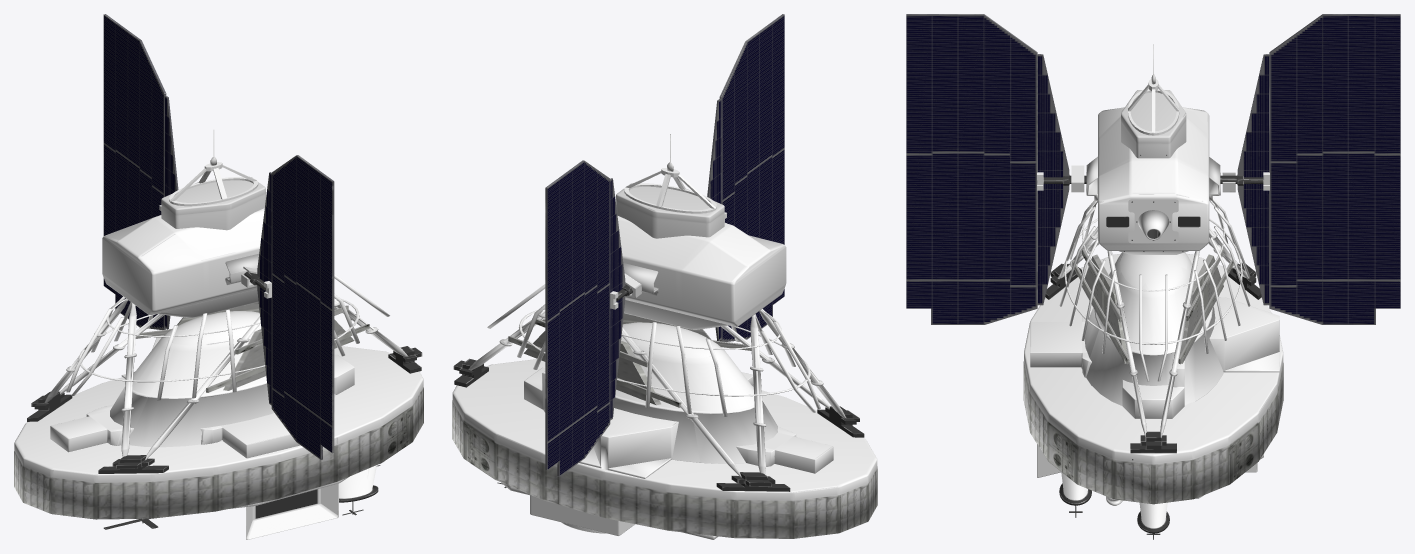
The picture shows the model from 3 angles, left to right: view 1: azimuth 30°, elevation 25°; view 2: azimuth 150°, elevation 25°; view 3: azimuth 270°, elevation 25°; orthographic projection. The views are drawn at different scales.
Visible parts, largest first — view 1: L1_Baked; view 2: L1_Baked; view 3: L1_Baked.
Boxes of the visible parts, left/top/right/bottom form: L1_Baked: left=14, top=14, right=423, bottom=539; L1_Baked: left=452, top=14, right=877, bottom=539; L1_Baked: left=906, top=14, right=1400, bottom=539.
Bounding box in the file's own units: 1 × 1 × 1.
1 material, 1 textured.
